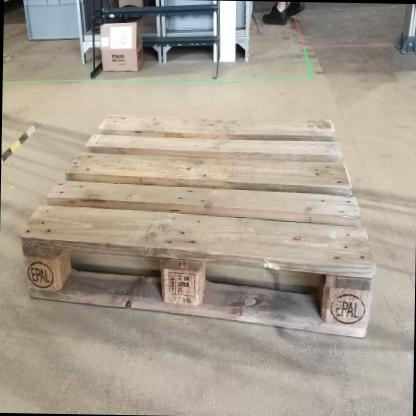BoxFace: (15, 108, 379, 347)
